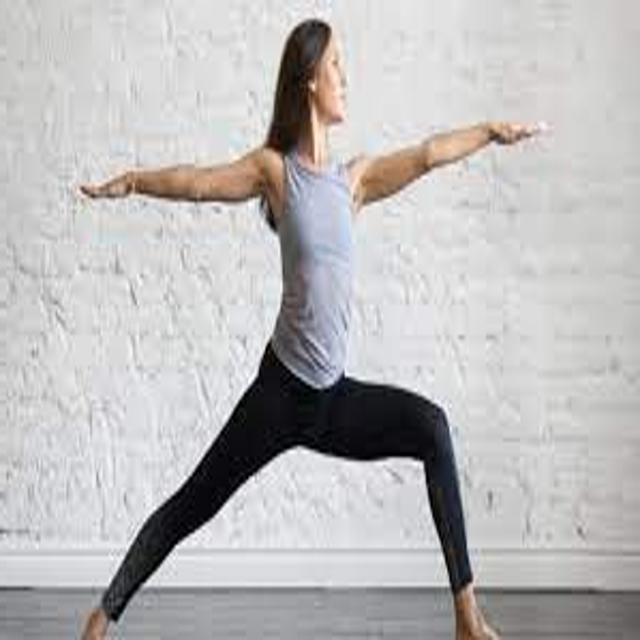Warrior_II: (69, 17, 549, 640)
